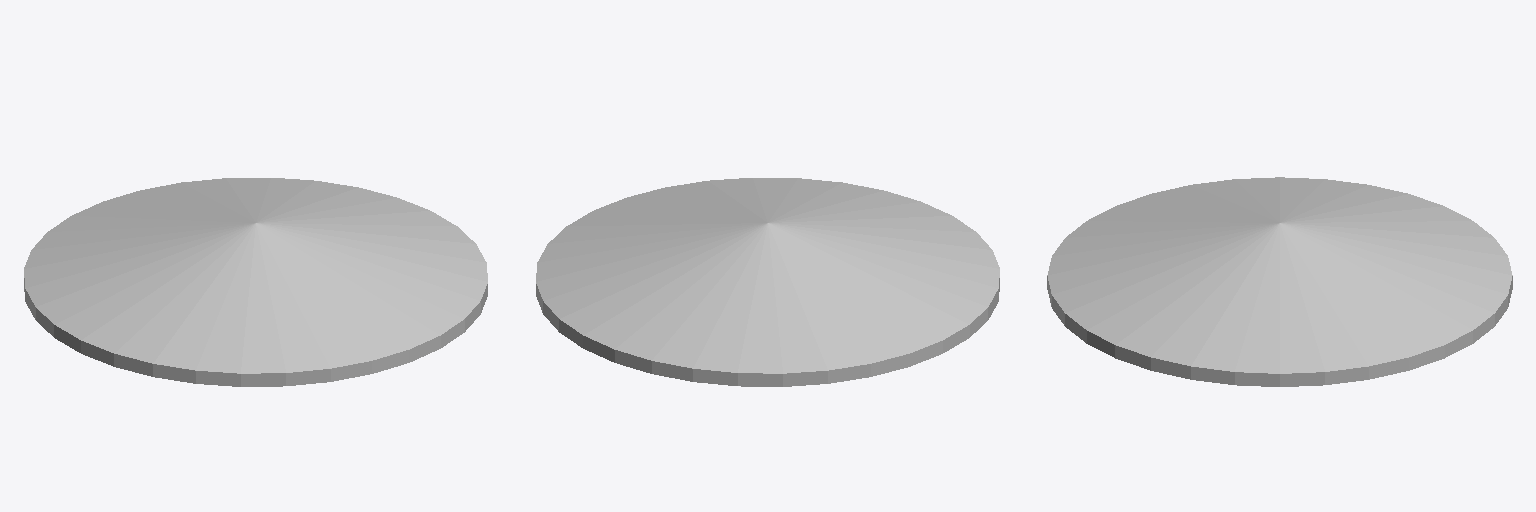
File: parasol.obj
3 renders of one model, left to right at view 1: azimuth 30°, elevation 25°; view 2: azimuth 150°, elevation 25°; view 3: azimuth 270°, elevation 25°, orthographic.
Visible parts, largest first — view 1: Cone; view 2: Cone; view 3: Cone.
Boxes of the visible parts, x1,y1,x2,y2 form: Cone: [24, 178, 487, 386]; Cone: [536, 178, 999, 386]; Cone: [1047, 177, 1512, 386].
Bounding box in the file's own units: 8.96 × 1.4 × 8.96.